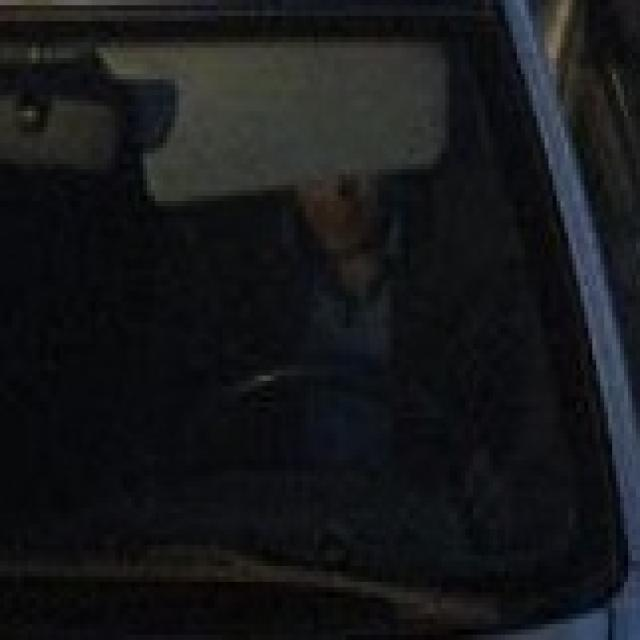No-seat-belt: (29, 10, 594, 604)
